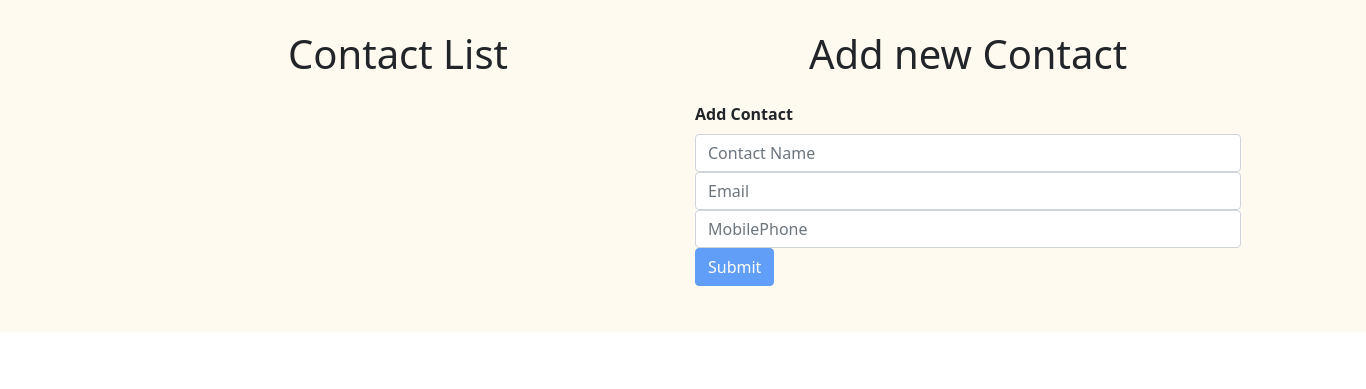
Test: UI Validation › number validation
Type "moises" into the field with test id "mobilePhone-input" at (968, 229), box x1=695 y1=210 x2=1241 y2=248
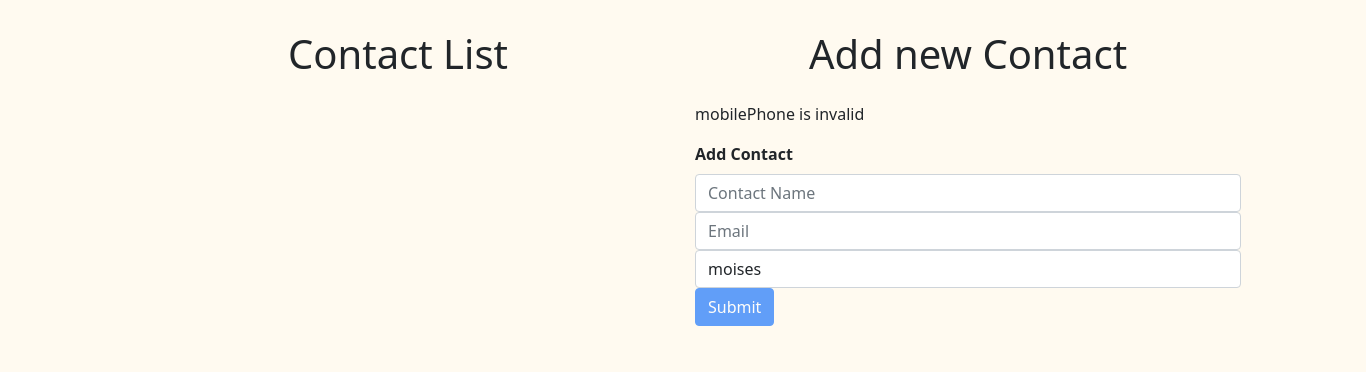
Expected: the text "mobilePhone is invalid" is shown, x1=695 y1=103 x2=864 y2=125
